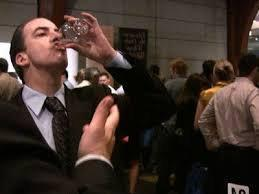Drunk: (26, 19, 68, 65)
